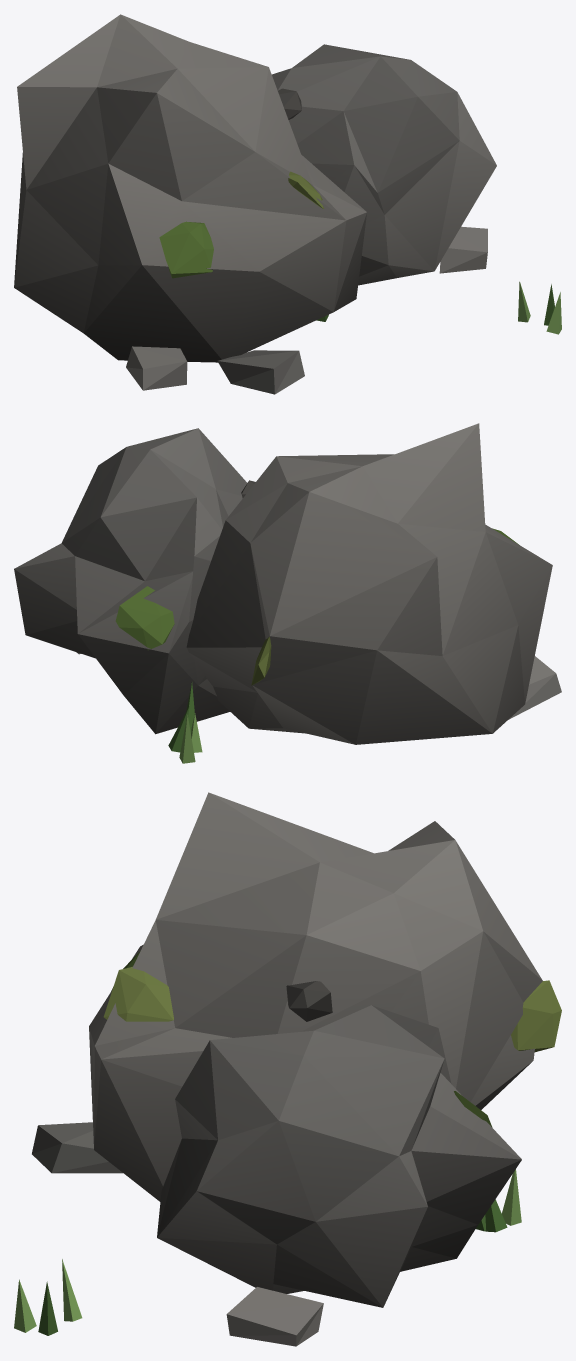
File: boulder.glb
3 renders of one model, top to bottom at view 1: azimuth 30°, elevation 25°; view 2: azimuth 150°, elevation 25°; view 3: azimuth 270°, elevation 25°, orthographic. The views are drawn at different scales.
Parts seen in each view (by area): view 1: boulder; view 2: boulder; view 3: boulder.
Part boxes in pixels (<box>): boulder: <box>14,14,561,394</box>; boulder: <box>14,423,561,763</box>; boulder: <box>14,792,561,1346</box>.
Bounding box in the file's own units: 1.92 × 1.11 × 1.63.
